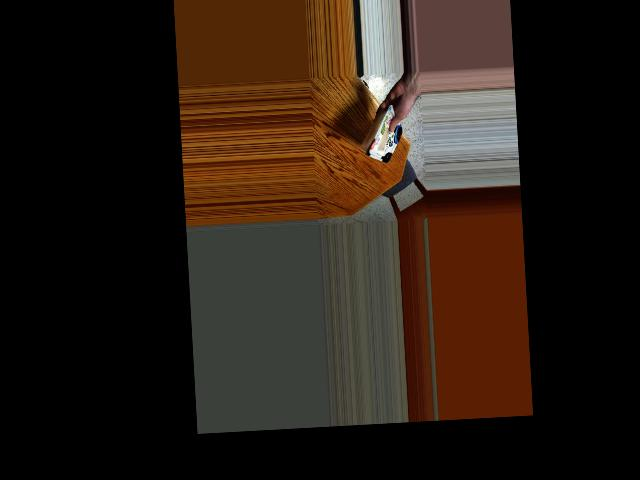cheese: (354, 113, 411, 161)
